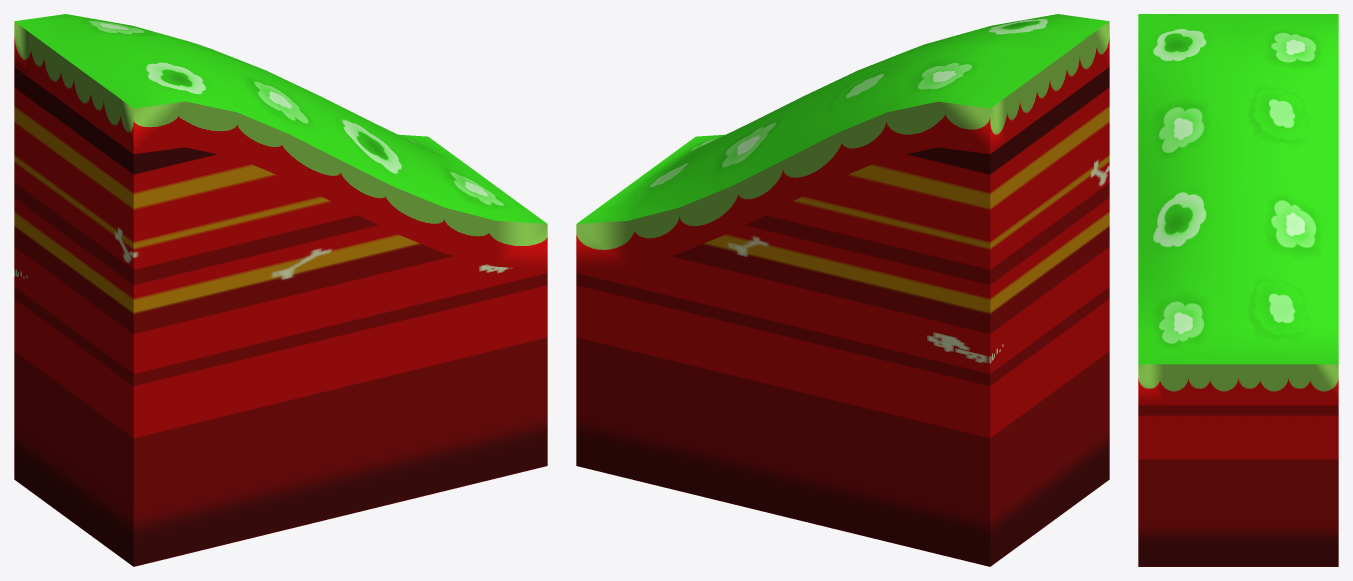
The model's file is block_rect_curved_hill_4x2.obj.
3 renders of one model, left to right at view 1: azimuth 30°, elevation 25°; view 2: azimuth 150°, elevation 25°; view 3: azimuth 270°, elevation 25°, orthographic. The views are drawn at different scales.
Visible parts, largest first — view 1: polySurface13; view 2: polySurface13; view 3: polySurface13.
Boxes of the visible parts, x1,y1,x2,y2 form: polySurface13: [14, 14, 547, 566]; polySurface13: [576, 14, 1109, 566]; polySurface13: [1138, 14, 1338, 566].
Bounding box in the file's own units: 800 × 856 × 400.
